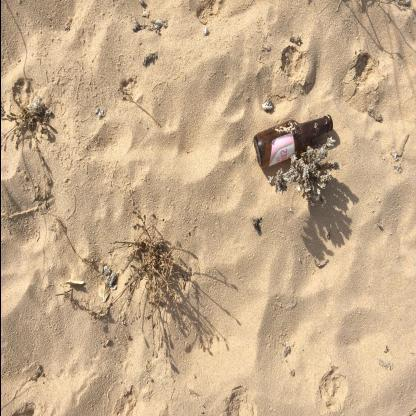cam: (254, 115, 334, 169)
